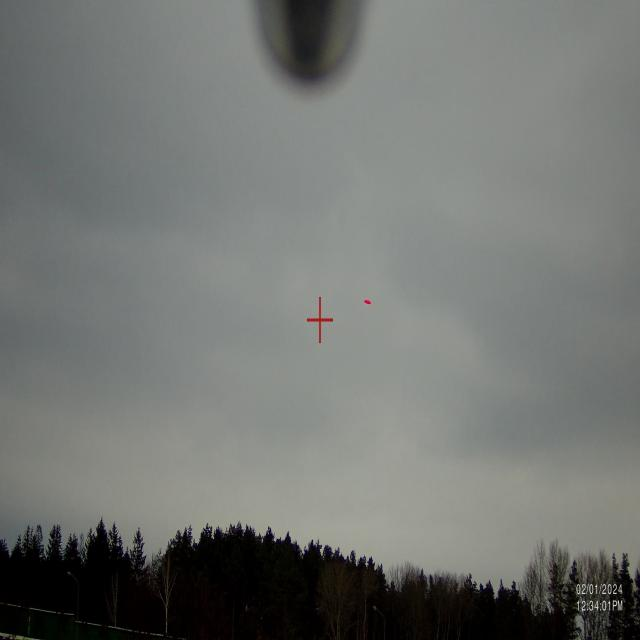entire: (358, 293, 376, 319)
